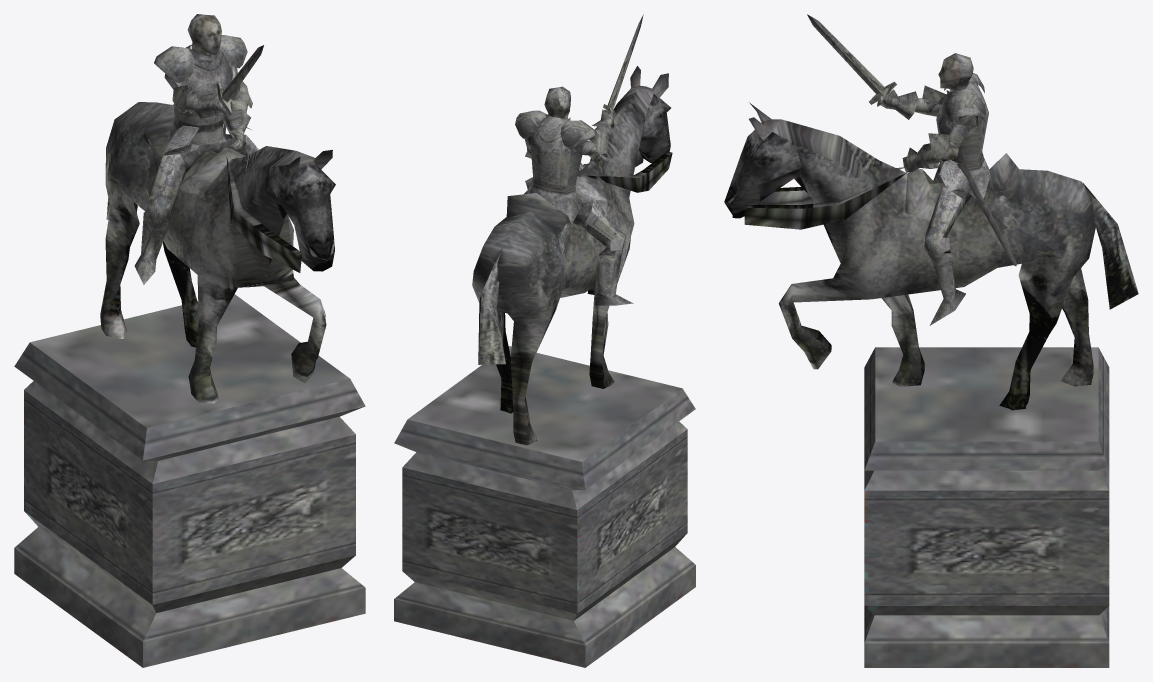
Rendered from building_statue_horse.glb.
The picture shows the model from 3 angles, left to right: view 1: azimuth 30°, elevation 25°; view 2: azimuth 150°, elevation 25°; view 3: azimuth 270°, elevation 25°; orthographic projection. The views are drawn at different scales.
Visible parts, largest first — view 1: building_statue_horse; view 2: building_statue_horse; view 3: building_statue_horse.
Boxes of the visible parts, x1,y1,x2,y2 form: building_statue_horse: [14, 14, 365, 667]; building_statue_horse: [394, 14, 695, 667]; building_statue_horse: [724, 14, 1138, 667].
Bounding box in the file's own units: 2 × 5.34 × 3.39.
Materials: 3 (3 with a texture image).
